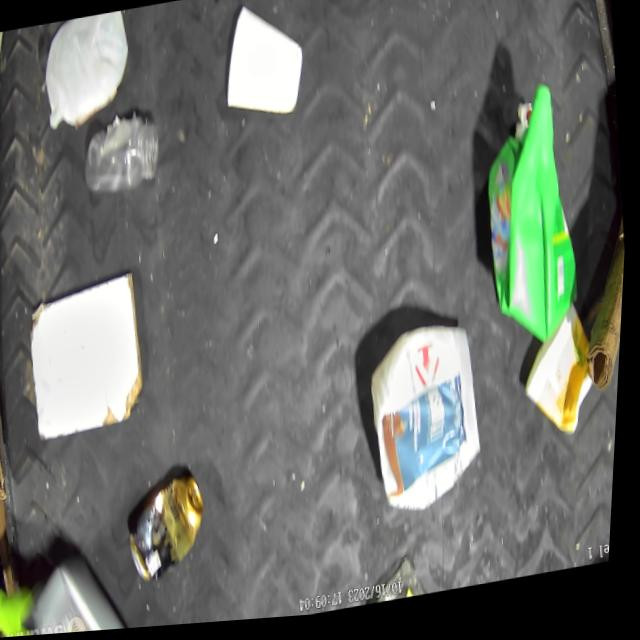can: (130, 479, 215, 583)
milk_jug: (25, 11, 134, 142)
non_white_jug: (474, 82, 593, 363)
plastic_bottle: (79, 126, 166, 203)
